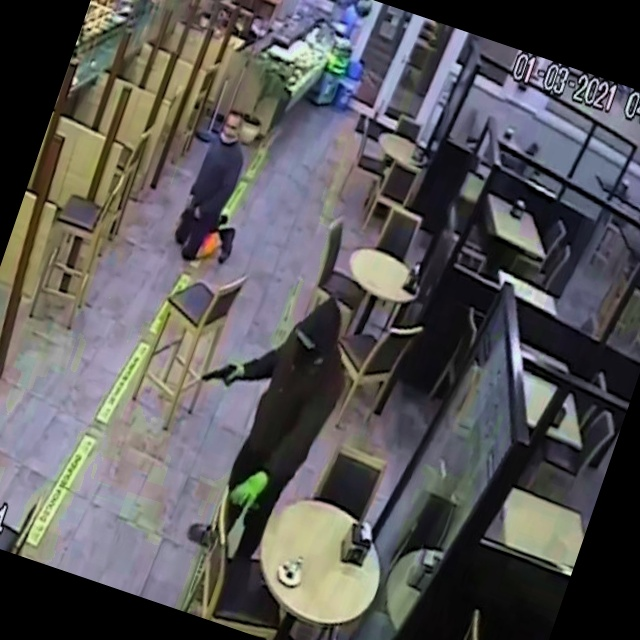gun: (187, 339, 252, 412)
